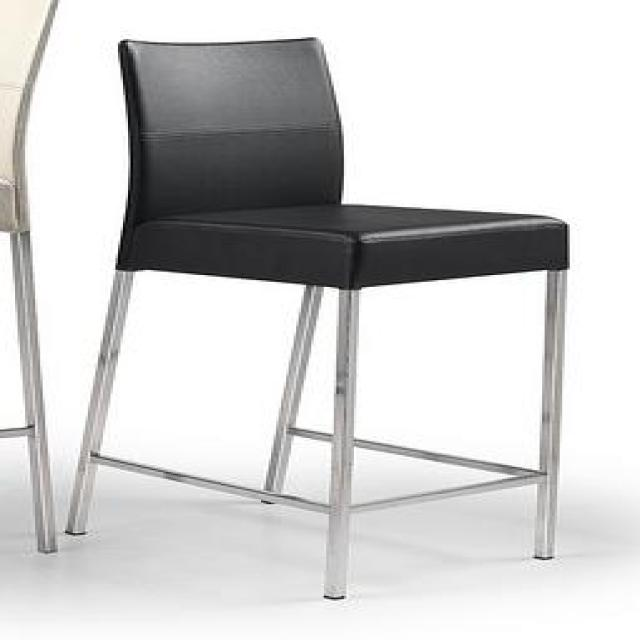chair: (66, 35, 571, 602)
